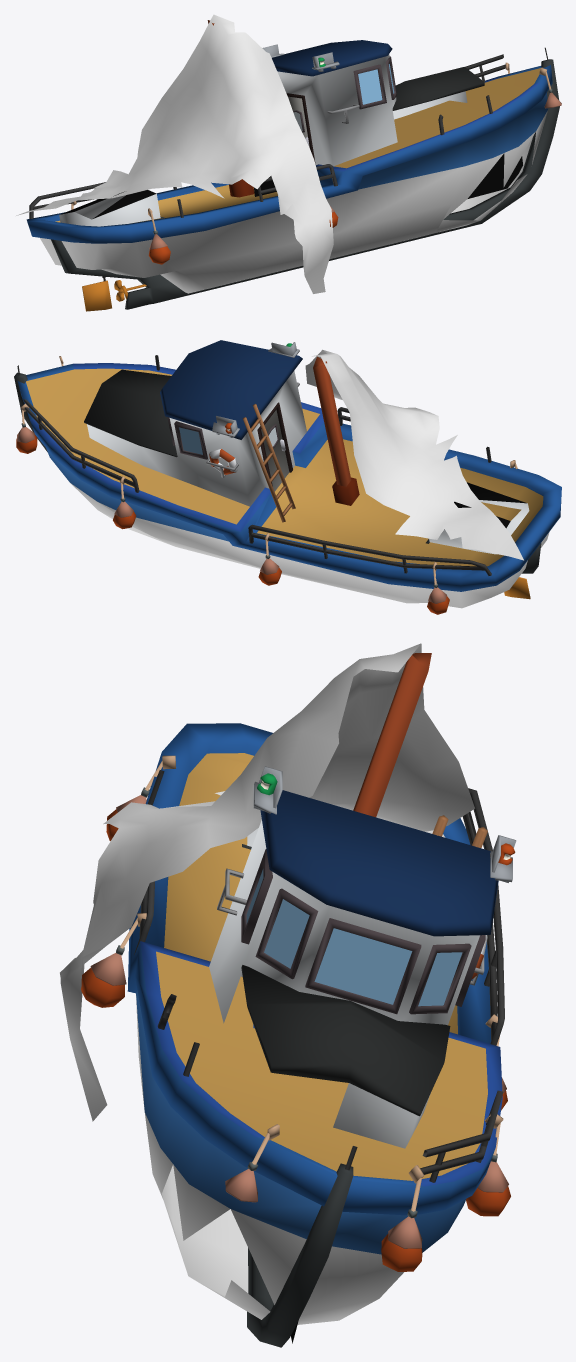
Rendered from brokenBoat.fbx.
3 views of the same model, one above another, from view 1: azimuth 30°, elevation 25°; view 2: azimuth 150°, elevation 25°; view 3: azimuth 270°, elevation 25° (orthographic). The views are drawn at different scales.
Parts seen in each view (by area): view 1: Fishing Boat Tuna.001, Plane; view 2: Fishing Boat Tuna.001, Plane; view 3: Fishing Boat Tuna.001, Plane.
Boxes of the visible parts, bbox=[...] form: Fishing Boat Tuna.001: bbox=[26, 20, 561, 311]; Plane: bbox=[16, 14, 333, 293]; Fishing Boat Tuna.001: bbox=[14, 340, 561, 614]; Plane: bbox=[305, 349, 523, 560]; Fishing Boat Tuna.001: bbox=[81, 653, 516, 1347]; Plane: bbox=[60, 643, 474, 1121].
Size of the model in its own units: 1020 by 449 by 388.
